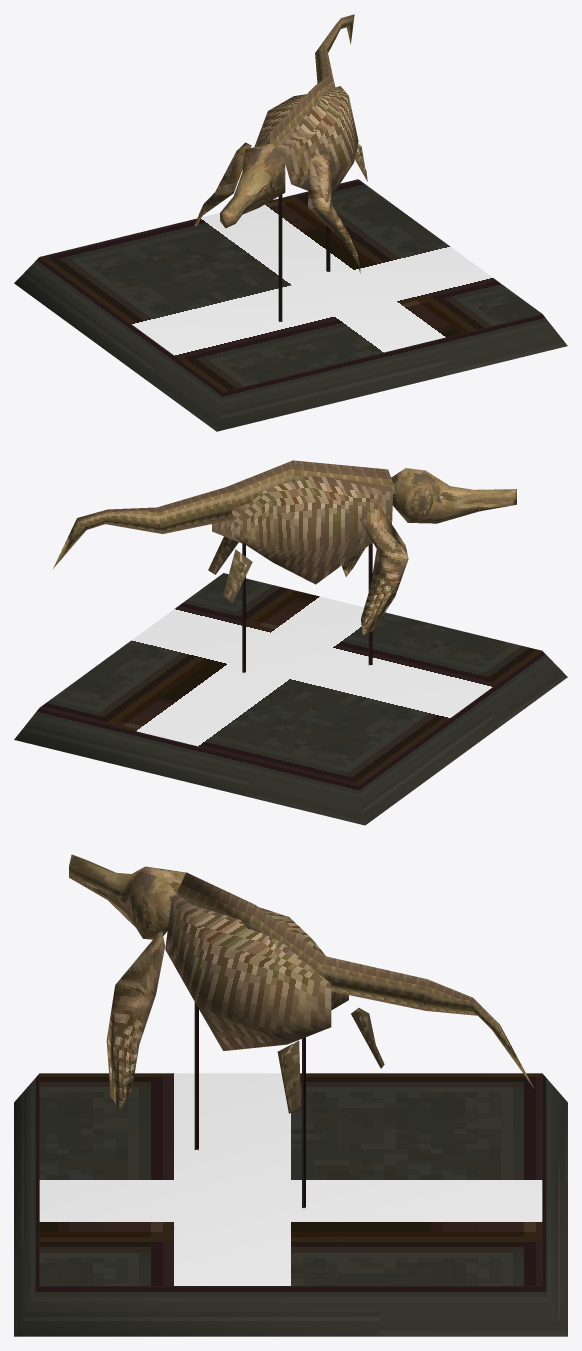
The model's file is int_din_iku_m.dae.
The picture shows the model from 3 angles, top to bottom: view 1: azimuth 30°, elevation 25°; view 2: azimuth 150°, elevation 25°; view 3: azimuth 270°, elevation 25°; orthographic projection. The views are drawn at different scales.
Parts seen in each view (by area): view 1: int_din_iku_m; view 2: int_din_iku_m; view 3: int_din_iku_m.
Boxes of the visible parts, bbox=[...] form: int_din_iku_m: bbox=[14, 14, 567, 431]; int_din_iku_m: bbox=[14, 460, 567, 825]; int_din_iku_m: bbox=[14, 854, 567, 1336].
Bounding box in the file's own units: 26.65 × 17.13 × 26.65.
Materials: 2 (2 with a texture image).
